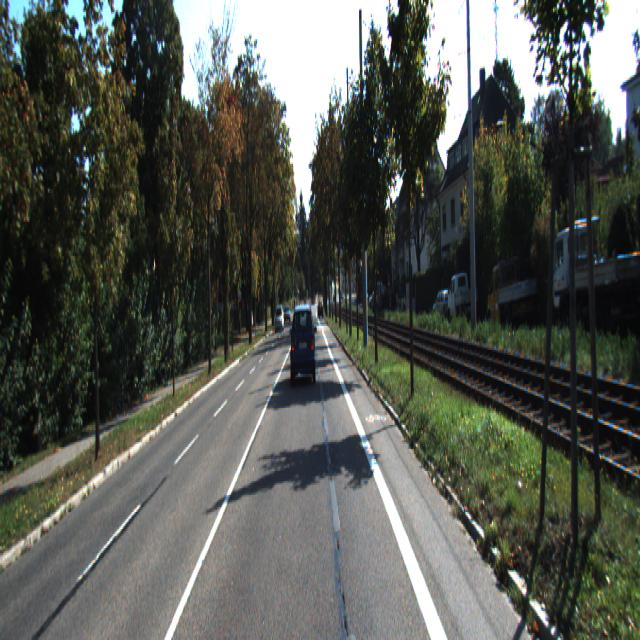Car: (290, 302, 316, 386), (434, 290, 456, 323), (275, 306, 284, 334)
Truck: (552, 205, 640, 338)
Van: (486, 257, 538, 332), (447, 272, 478, 322)
